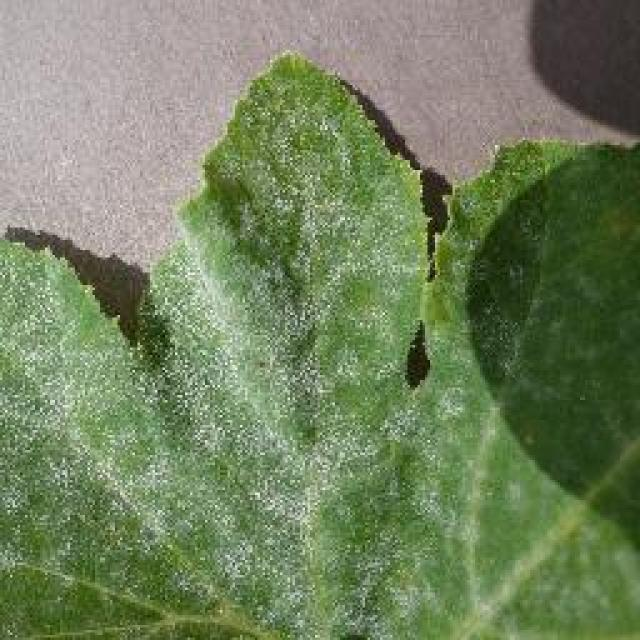Squ_Powdery_mildew: (0, 252, 472, 614)
